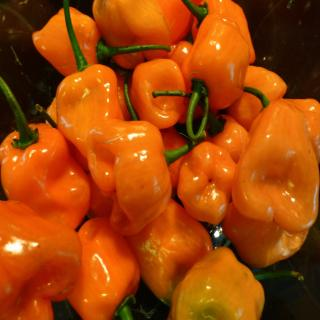Bell pepper: (0, 1, 320, 320), (5, 107, 89, 242)
